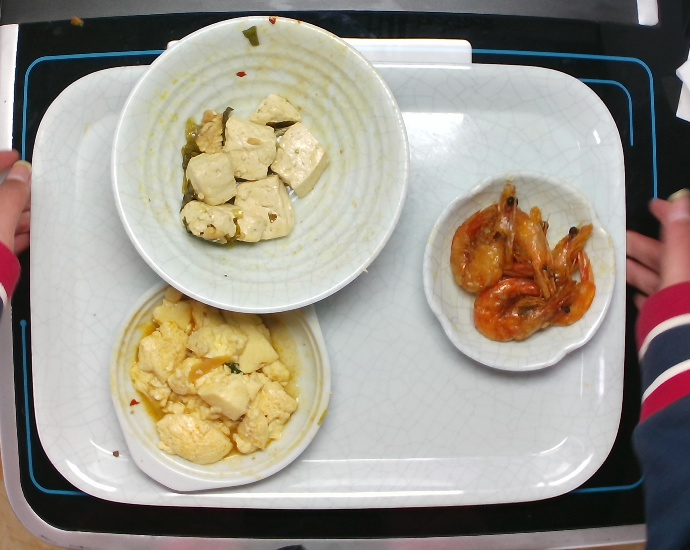JYsf-Ao_Yuan_Wan: (416, 165, 623, 379)
JYsf-Shuang_Er_Pan: (105, 273, 334, 497)
JYsf-Xiao_Tang_Wan: (106, 11, 413, 318)
